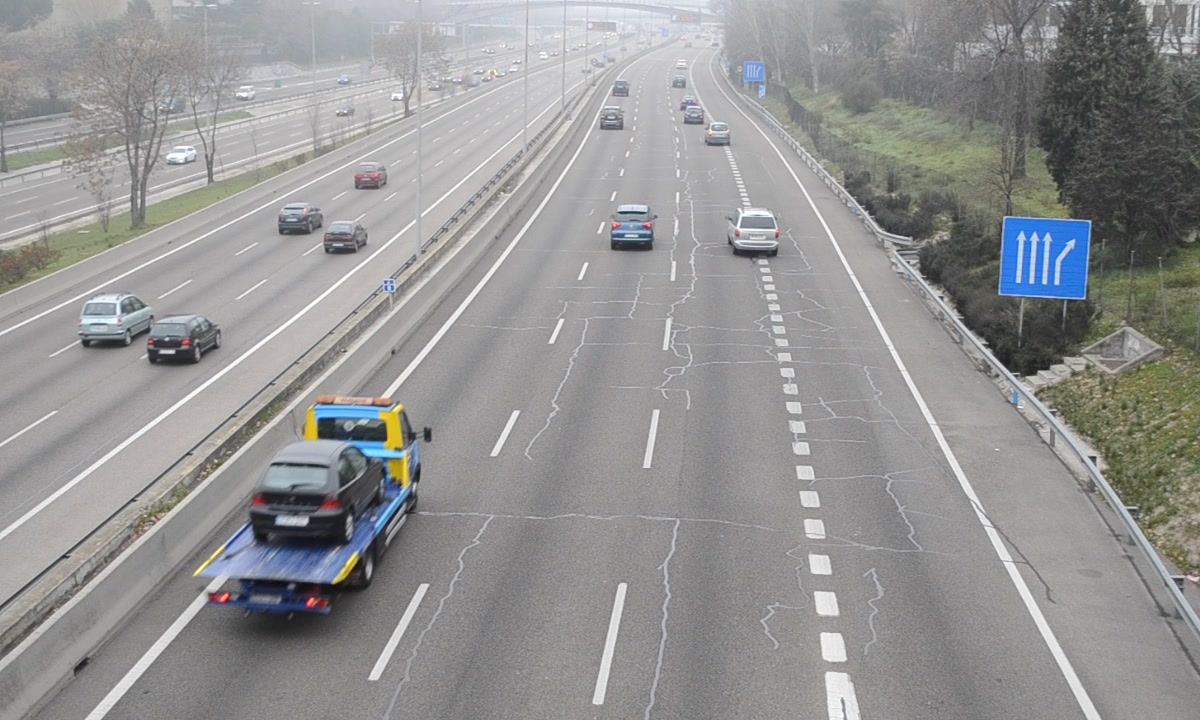car: (731, 206, 780, 254), (610, 203, 654, 246), (706, 121, 731, 145), (600, 104, 623, 129)
small-truck: (193, 394, 421, 611)
